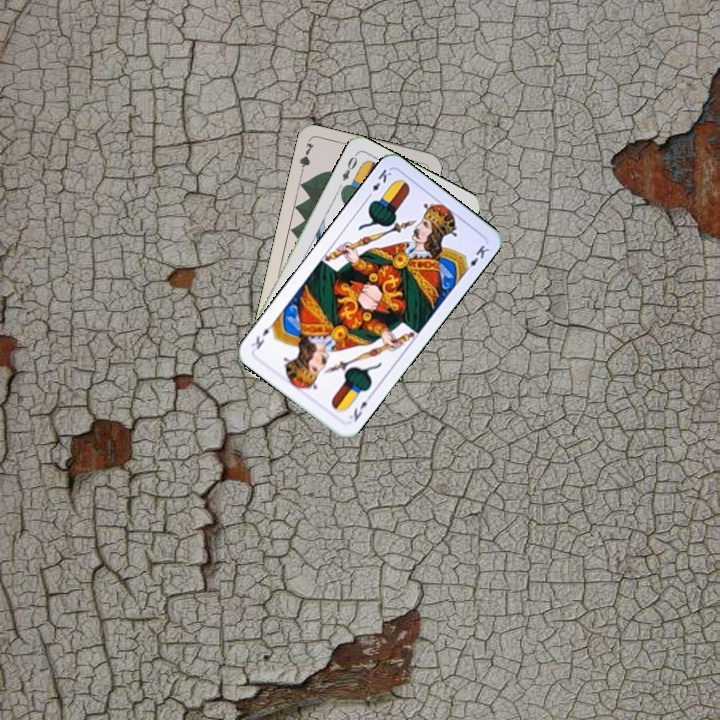EK: (363, 165, 394, 201), (345, 390, 375, 424)
EO: (338, 149, 360, 183)
G7: (295, 139, 317, 178)
